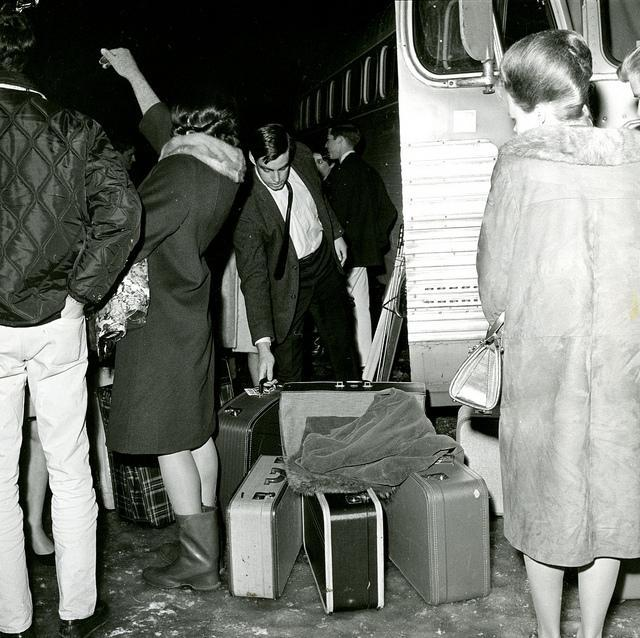bus: (280, 0, 640, 411)
